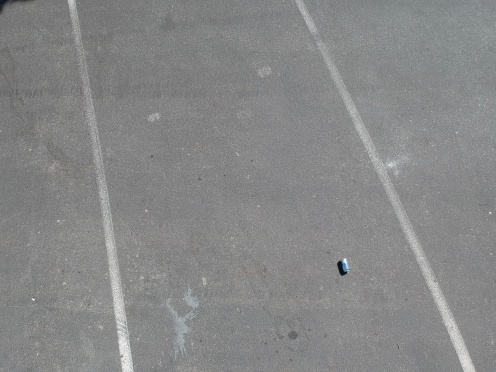can: (334, 255, 352, 275)
